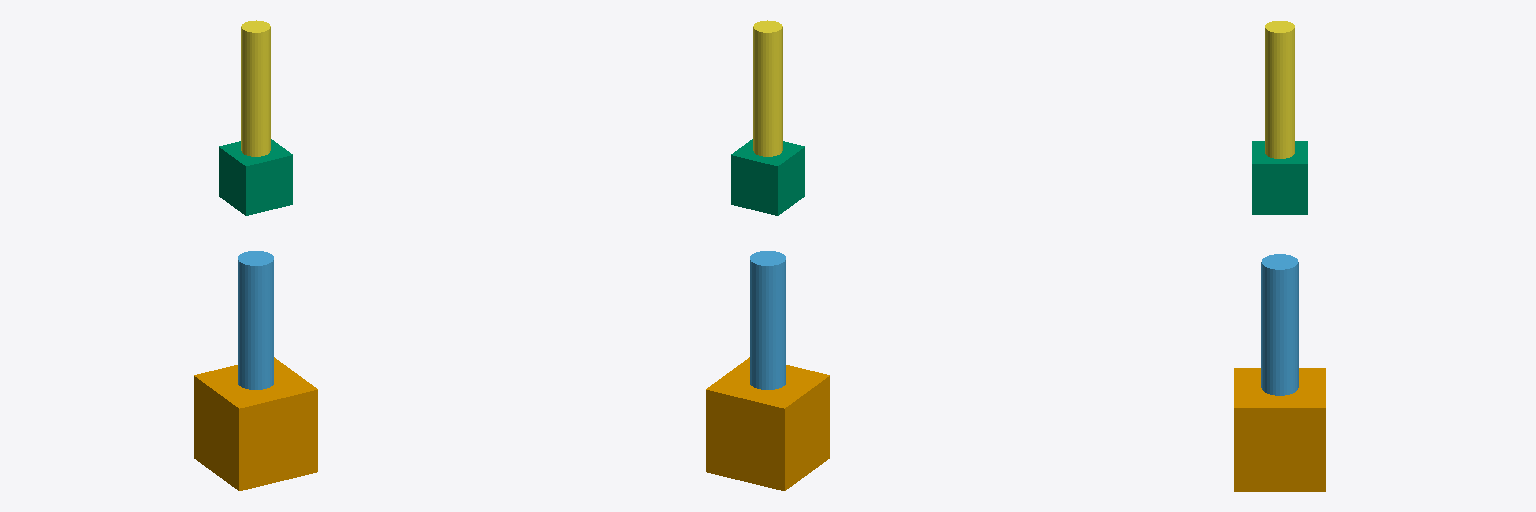
The robot description file, URDF, robot "test_robot":
<?xml version="1.0" ?>
<robot name="test_robot">
  <link name="base_link">
    <visual>
      <geometry>
        <box size="0.5 0.5 0.5"/>
      </geometry>
    </visual>
  </link>
  
  <joint name="joint1" type="revolute">
    <parent link="base_link"/>
    <child link="link1"/>
    <origin xyz="0 0 0.5" rpy="0 0 0"/>
    <axis xyz="0 1 0"/>
    <limit lower="-3.14" upper="3.14" effort="100" velocity="10"/>
  </joint>
  
  <link name="link1">
    <visual>
      <geometry>
        <cylinder length="1.0" radius="0.1"/>
      </geometry>
    </visual>
  </link>
  
  <joint name="joint2" type="fixed">
    <parent link="link1"/>
    <child link="link2"/>
    <origin xyz="0 0 1.0" rpy="0 0 0"/>
  </joint>
  
  <link name="link2">
    <visual>
      <geometry>
        <box size="0.3 0.3 0.3"/>
      </geometry>
    </visual>
  </link>
  
  <joint name="joint3" type="revolute">
    <parent link="link2"/>
    <child link="link3"/>
    <origin xyz="0 0 0.5" rpy="0 0 0"/>
    <axis xyz="1 0 0"/>
    <limit lower="-1.57" upper="1.57" effort="100" velocity="10"/>
  </joint>
  
  <link name="link3">
    <visual>
      <geometry>
        <cylinder length="0.8" radius="0.08"/>
      </geometry>
    </visual>
  </link>
</robot>

--- What the picture shows (computed from the rendered views, not written in the file) ---
3 views of the same robot in one strip: view 1: azimuth 30°, elevation 25°; view 2: azimuth 150°, elevation 25°; view 3: azimuth 270°, elevation 25° (orthographic).
Robot: test_robot — 4 links, 3 joints (2 revolute, 1 fixed); root link base_link; default pose: all joints at 0.
Visible links, largest first — view 1: base_link, link1, link2, link3; view 2: base_link, link1, link2, link3; view 3: base_link, link1, link3, link2.
Link boxes in pixels (x1,y1,x2,y2): base_link: (194,357,317,490); link1: (238,251,273,389); link2: (219,139,292,215); link3: (241,20,270,156); base_link: (706,357,829,490); link1: (750,251,785,389); link2: (731,139,804,215); link3: (753,20,782,156); base_link: (1234,368,1325,491); link1: (1261,254,1298,395); link3: (1265,21,1294,158); link2: (1252,141,1307,214).
Bounding box of the posed robot: 0.5 × 0.5 × 2.65 m (x, y, z).
Geometry: primitives only (box / cylinder / sphere), no mesh files.
